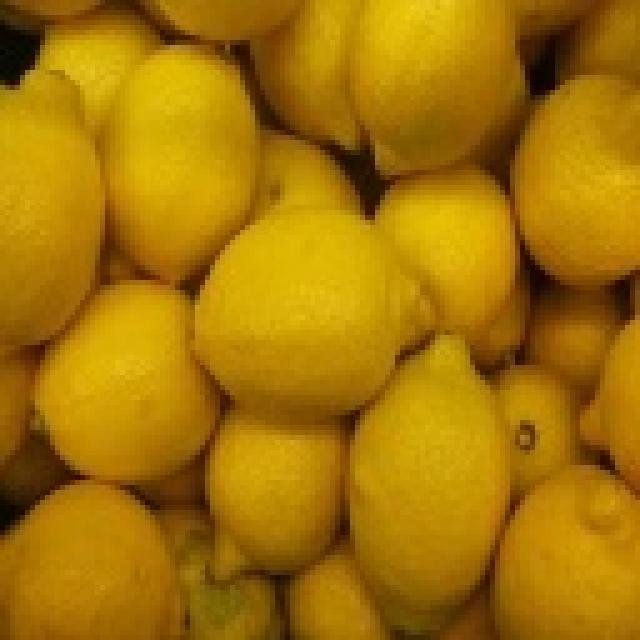lemon: (190, 204, 402, 415), (348, 394, 502, 636), (28, 320, 216, 480), (349, 0, 514, 175), (103, 44, 254, 235), (514, 69, 640, 293), (0, 74, 103, 348), (497, 463, 640, 640), (198, 417, 346, 581)
